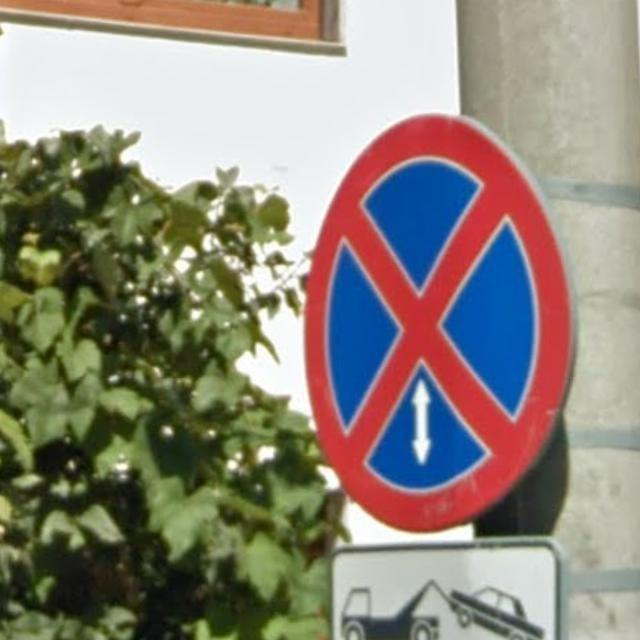forb_waiting: (305, 114, 574, 532)
